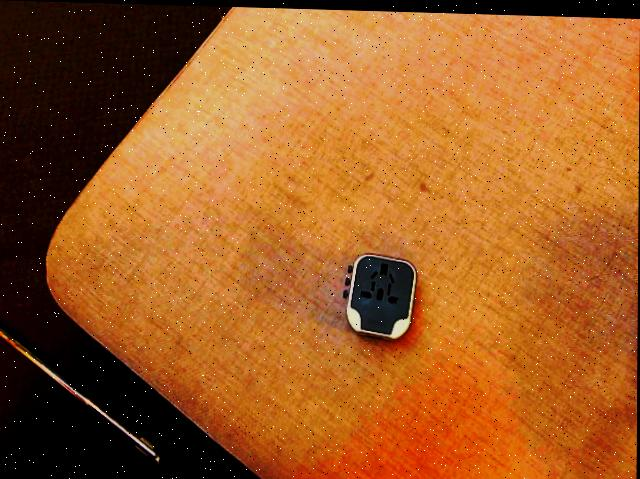adapter: (343, 251, 416, 339)
